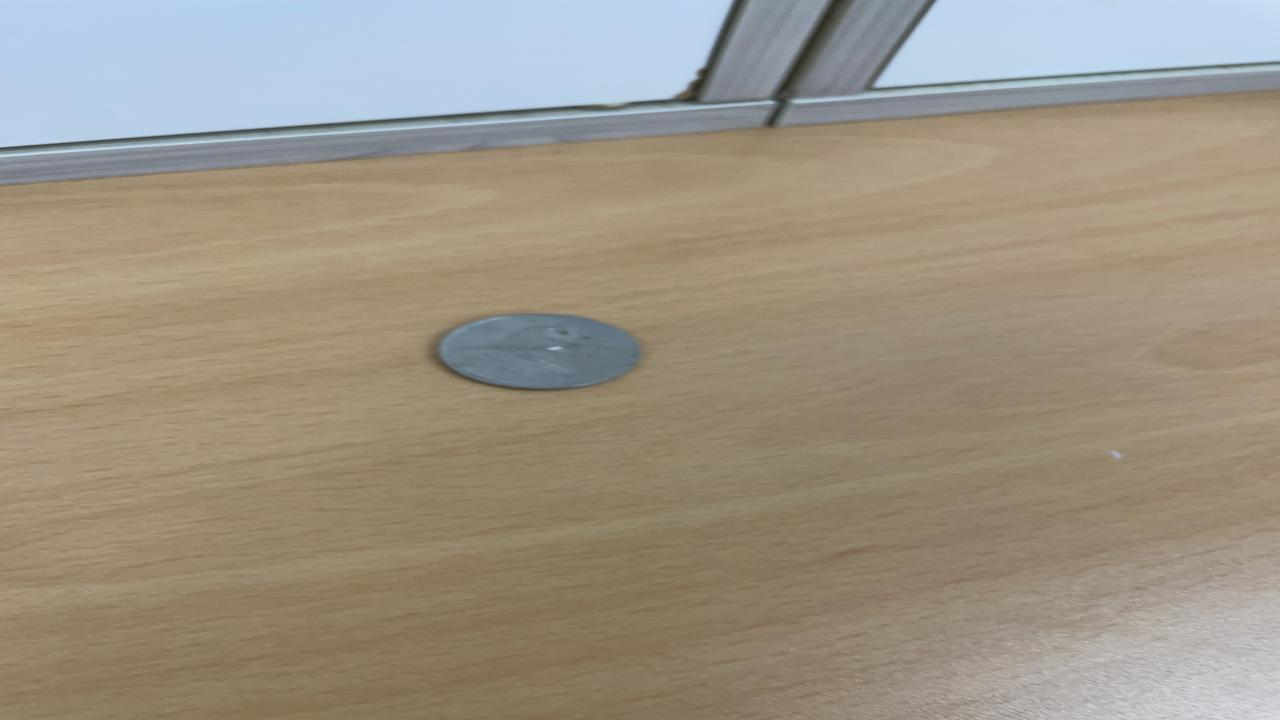coin: (422, 310, 646, 394)
